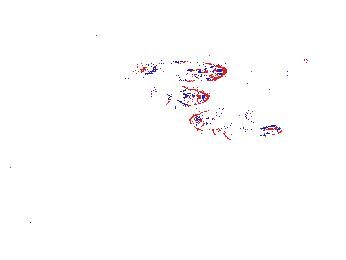red belly glassfish: (162, 87, 211, 106), (241, 123, 284, 139)
redtail glassfish: (140, 57, 228, 83), (242, 54, 313, 86), (189, 107, 255, 132)
